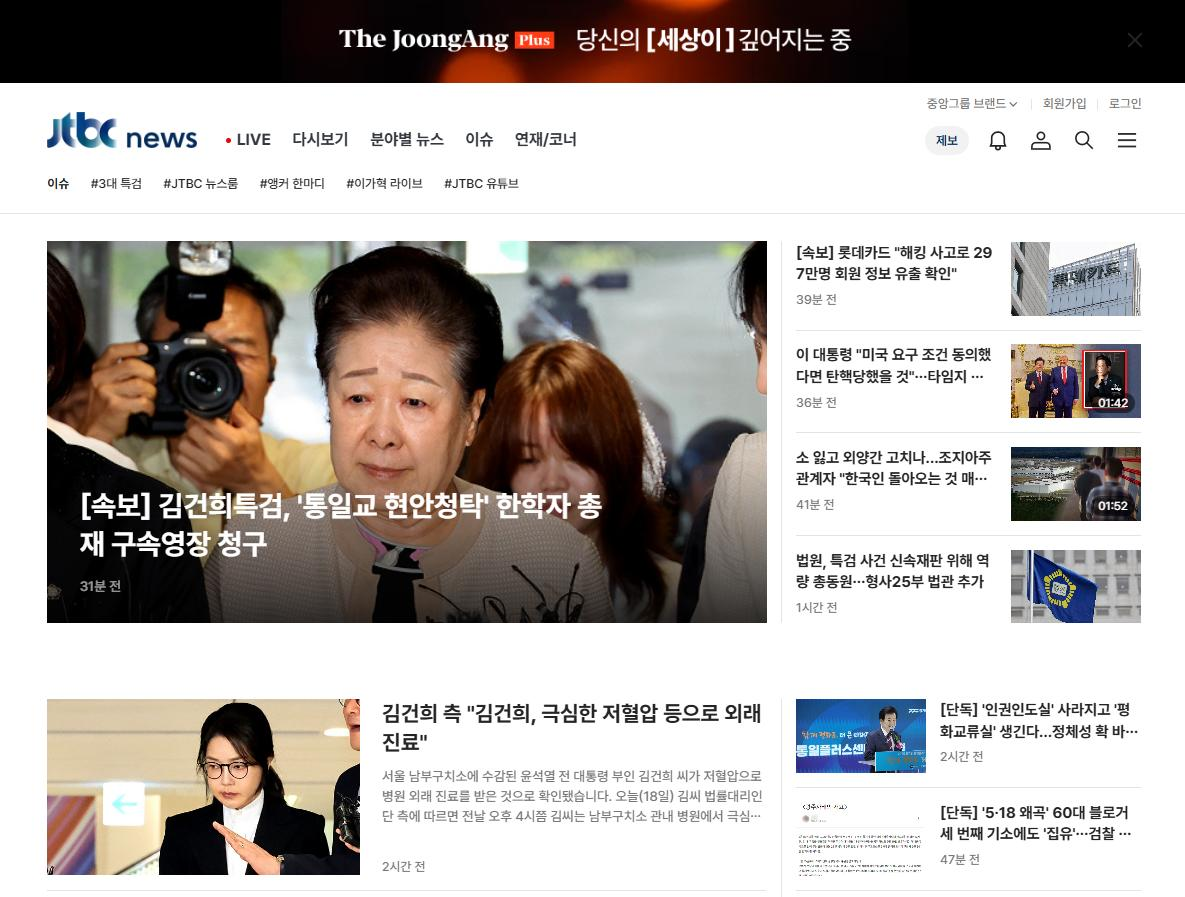button: (40, 104, 208, 159), (509, 120, 601, 157), (342, 168, 433, 200), (156, 168, 246, 200), (253, 163, 335, 198), (439, 169, 531, 200), (367, 120, 449, 154), (287, 125, 357, 157), (83, 171, 150, 204), (221, 124, 282, 156), (458, 116, 502, 159), (925, 122, 970, 163), (1042, 87, 1090, 120), (1105, 87, 1152, 120), (1112, 122, 1151, 160), (33, 168, 76, 202), (1065, 122, 1102, 161), (981, 120, 1016, 161), (1029, 122, 1060, 162)
checkbox: (923, 88, 1028, 117)
popup: (3, 2, 1185, 84)
